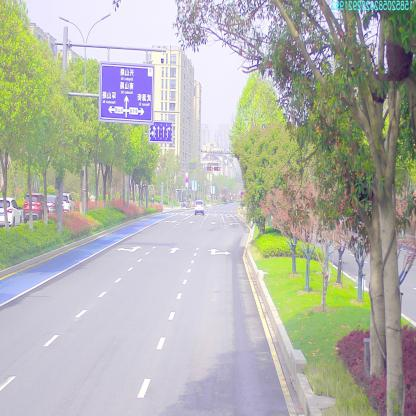traffic-light: (213, 164, 221, 171), (207, 165, 212, 171)
